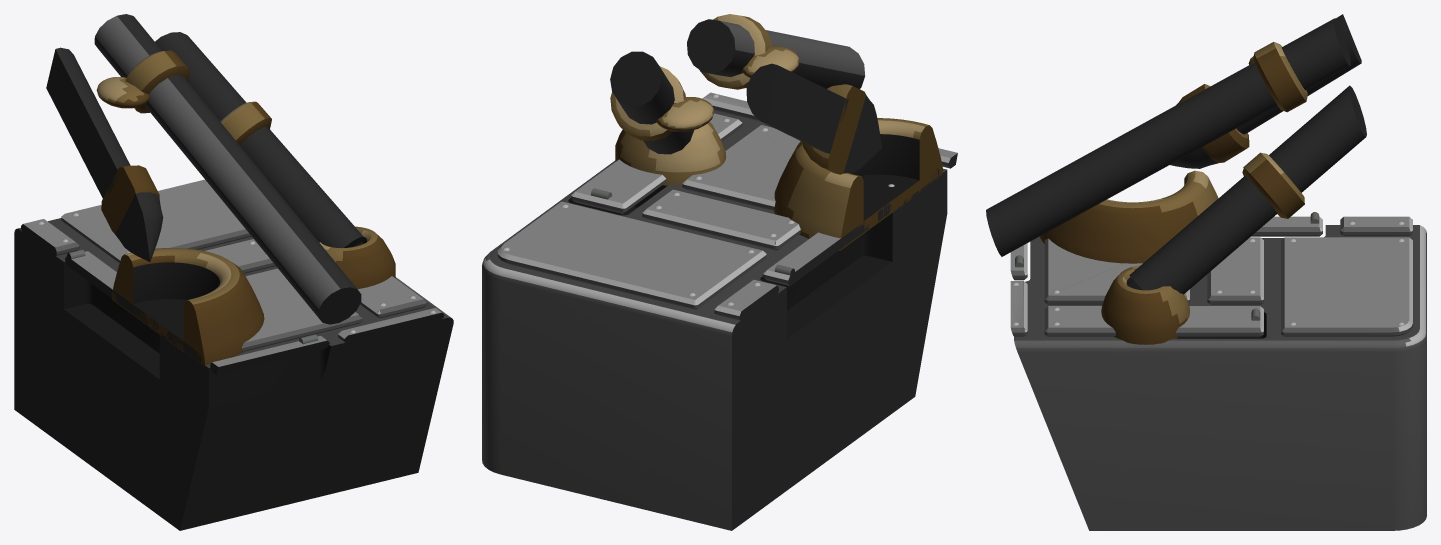
Rendered from asteroid_rig_tr_7.glb.
The picture shows the model from 3 angles, left to right: view 1: azimuth 30°, elevation 25°; view 2: azimuth 150°, elevation 25°; view 3: azimuth 270°, elevation 25°; orthographic projection. The views are drawn at different scales.
Visible parts, largest first — view 1: asteroid_rig_tr_7; view 2: asteroid_rig_tr_7; view 3: asteroid_rig_tr_7.
Part boxes in pixels (x1,y1,x2,y2): asteroid_rig_tr_7: [14, 14, 453, 530]; asteroid_rig_tr_7: [482, 14, 957, 530]; asteroid_rig_tr_7: [986, 14, 1426, 530].
Bounding box in the file's own units: 19 × 31.48 × 29.84.
